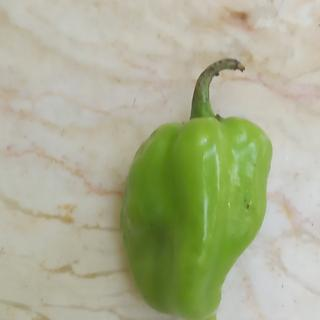Grade-A: (111, 106, 277, 317)
